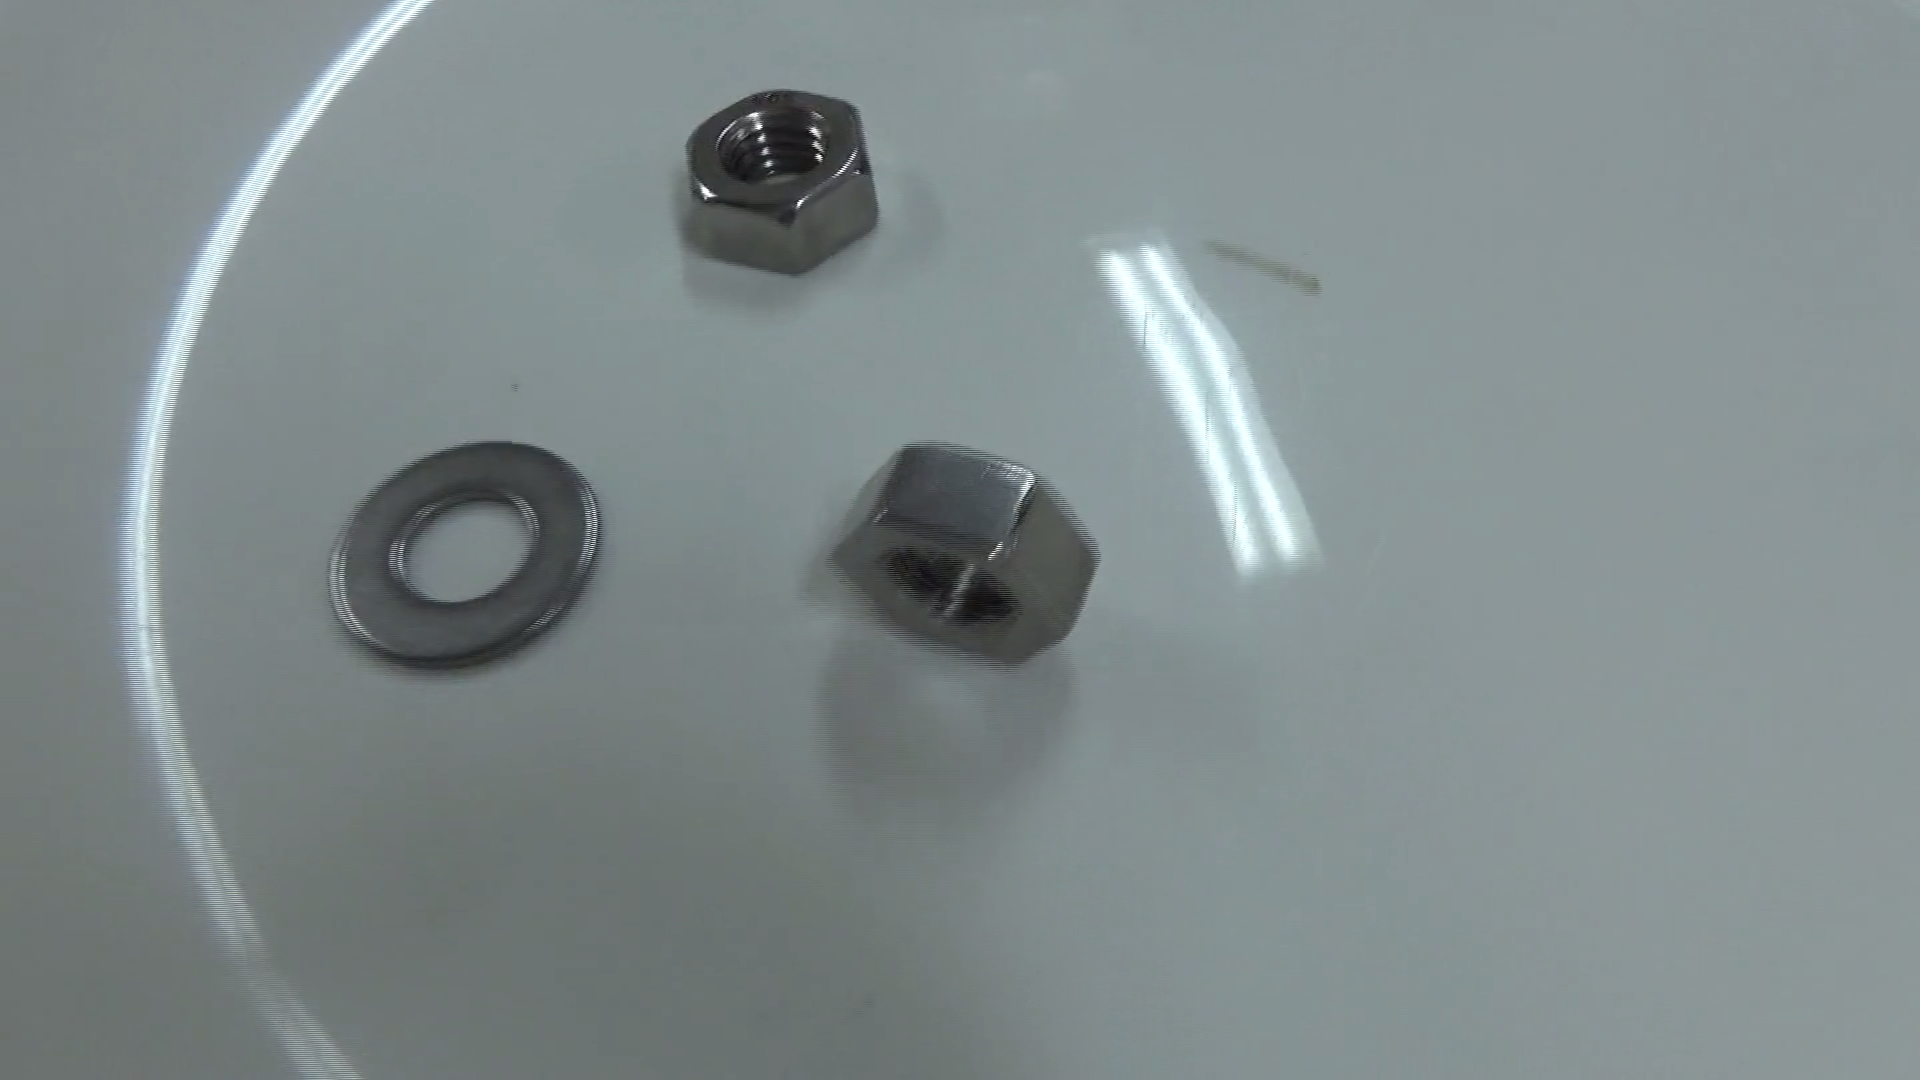nut: (822, 433, 1104, 665), (679, 84, 884, 280)
washer: (320, 435, 603, 673)
